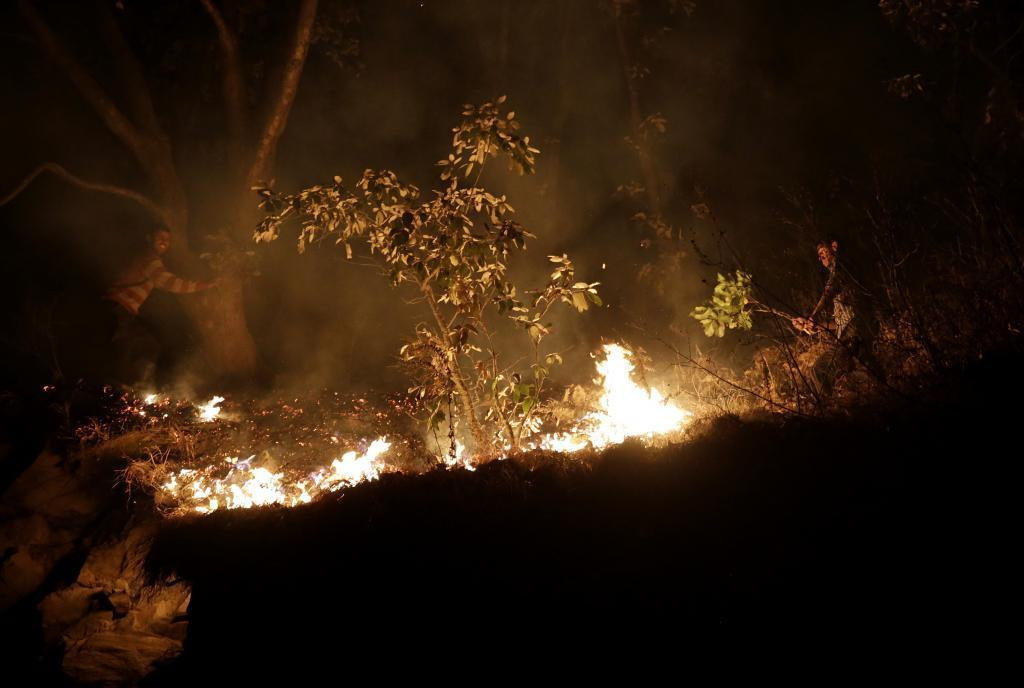fire: (457, 345, 700, 462), (160, 426, 403, 513)
